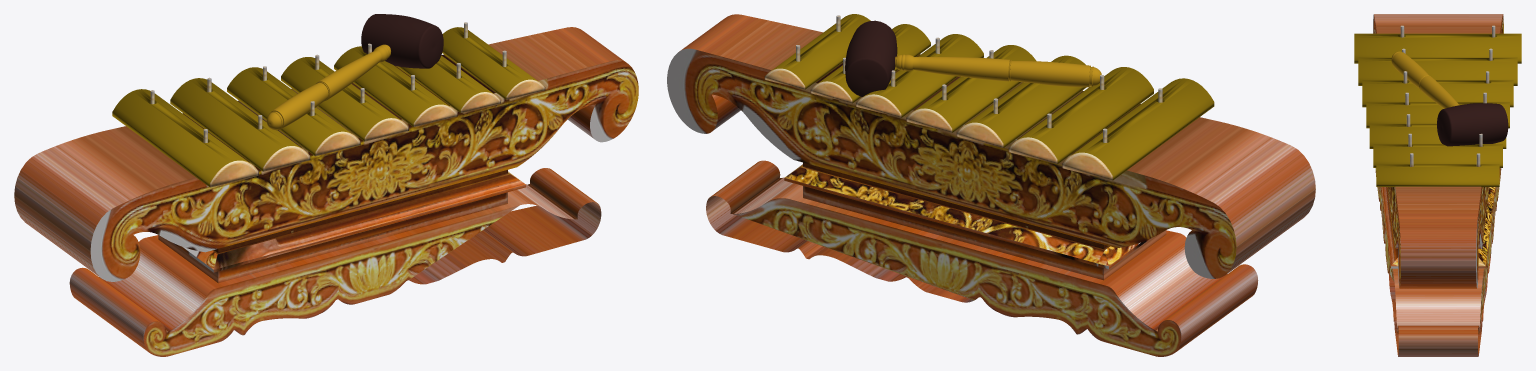
The model's file is saron.glb.
3 views of the same model, side by side, from view 1: azimuth 30°, elevation 25°; view 2: azimuth 150°, elevation 25°; view 3: azimuth 270°, elevation 25° (orthographic). The views are drawn at different scales.
Parts seen in each view (by area): view 1: Object_32, Object_33, Object_31, Object_109, Object_112; view 2: Object_32, Object_33, Object_31, Object_112, Object_109; view 3: Object_32, Object_33, Object_109, Object_112, Object_31.
Boxes of the visible parts, x1=… form: Object_32: x1=14, y1=22, x2=638, y2=351; Object_33: x1=112, y1=27, x2=538, y2=187; Object_31: x1=143, y1=184, x2=530, y2=356; Object_109: x1=361, y1=14, x2=443, y2=68; Object_112: x1=266, y1=44, x2=390, y2=130; Object_32: x1=667, y1=14, x2=1315, y2=350; Object_33: x1=771, y1=14, x2=1214, y2=180; Object_31: x1=730, y1=198, x2=1181, y2=356; Object_112: x1=895, y1=54, x2=1101, y2=87; Object_109: x1=845, y1=20, x2=897, y2=96; Object_32: x1=1373, y1=14, x2=1503, y2=356; Object_33: x1=1354, y1=33, x2=1521, y2=186; Object_109: x1=1437, y1=103, x2=1508, y2=146; Object_112: x1=1391, y1=51, x2=1459, y2=108; Object_31: x1=1375, y1=168, x2=1501, y2=330.
Bounding box in the file's own units: 0.9335 × 0.3593 × 0.2962.
Materials: 6 (3 with a texture image).
